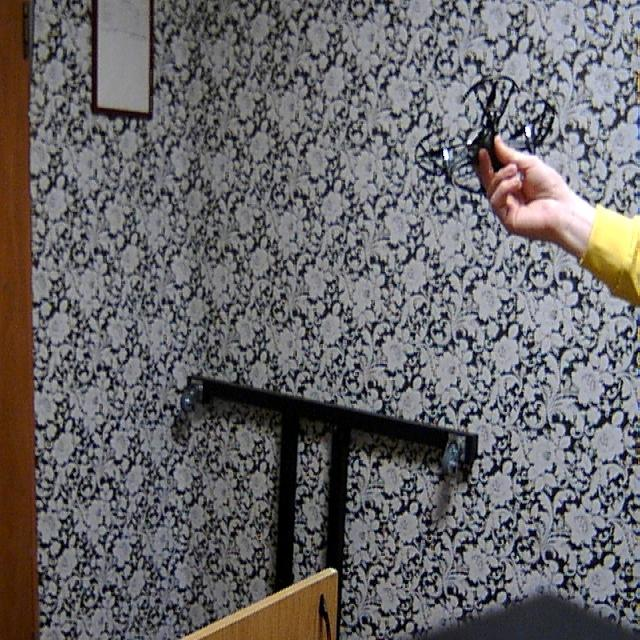drone: (409, 68, 560, 204)
